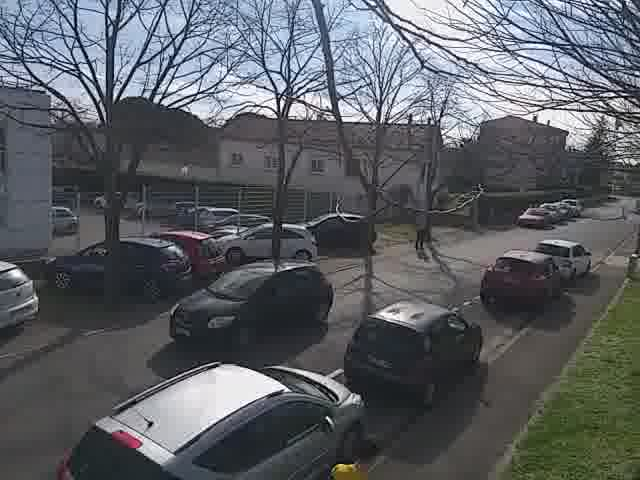persona: (410, 201, 430, 252)
